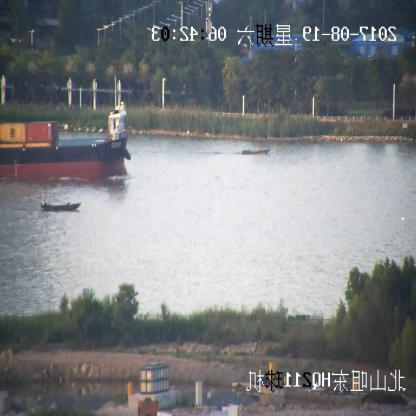Fishing Boat: (40, 200, 81, 213), (241, 145, 269, 156)
